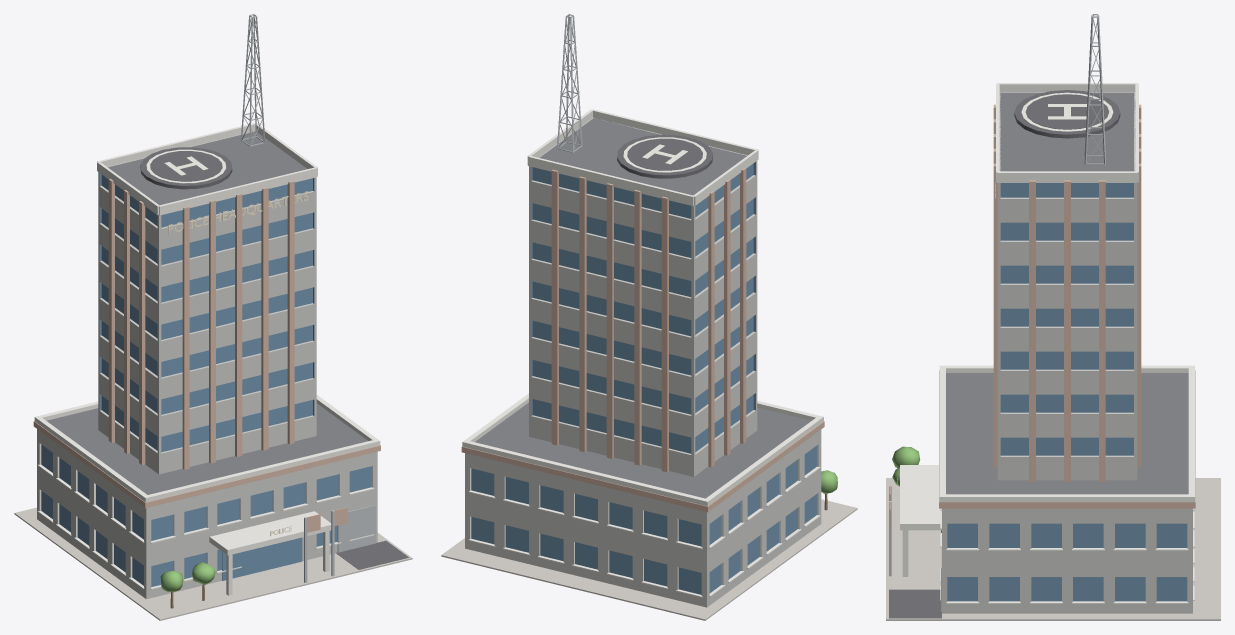
File: police_hq.glb
The picture shows the model from 3 angles, left to right: view 1: azimuth 30°, elevation 25°; view 2: azimuth 150°, elevation 25°; view 3: azimuth 270°, elevation 25°; orthographic projection. The views are drawn at different scales.
Visible parts, largest first — view 1: police_hq; view 2: police_hq; view 3: police_hq.
Part boxes in pixels (x1,y1,x2,y2): police_hq: (14,14,412,620); police_hq: (441,14,857,620); police_hq: (886,14,1220,620).
Bounding box in the file's own units: 24 × 44.87 × 24.
